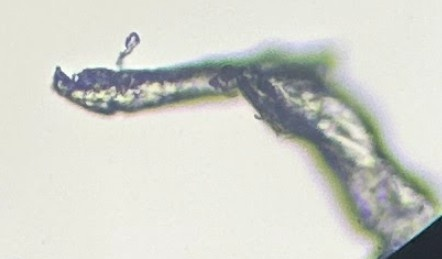microplastic: (51, 32, 442, 258)
